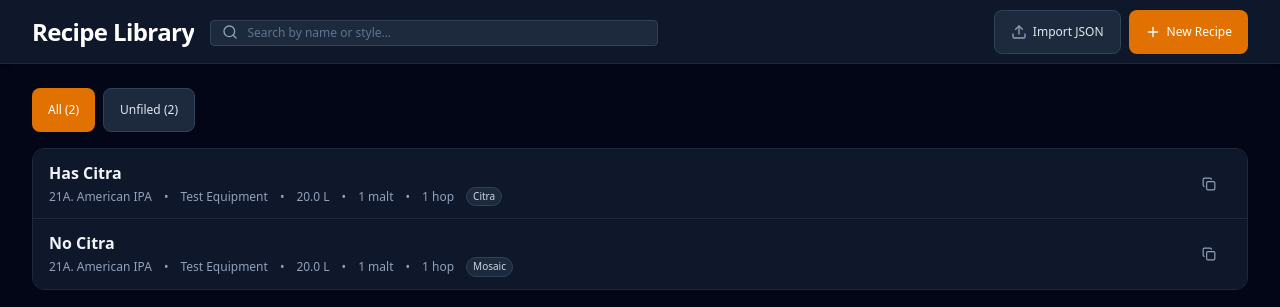
it: M38_P1 AC-13/AC-14: tag badges and tag filtering › clicking a tag badge filters the library to recipes with that tag, and shows a dismissible active filter chip
The width and height of the screenshot is (1280, 307).
Check: the button with test id "recipe-row-r-1" is shown, box [33,149,1247,219]
Click the button "Citra" at (484, 197), box [466,187,502,206]
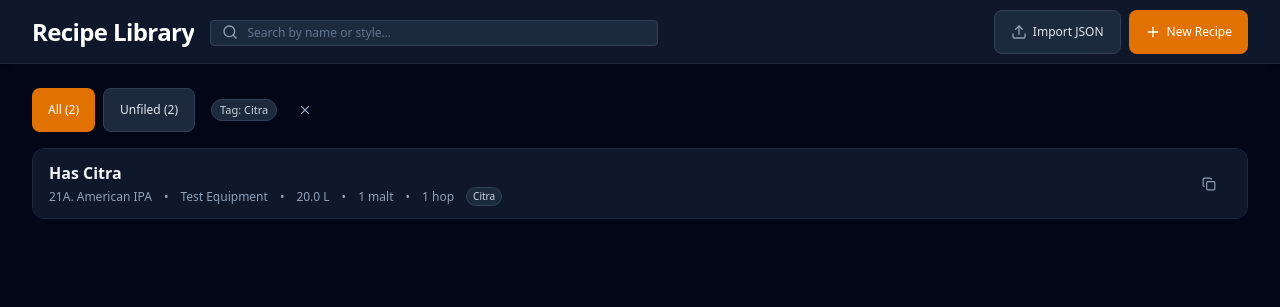
Check: the button with test id "recipe-row-r-1" is shown, box [33,149,1247,218]
Check: the button with test id "recipe-row-r-2" is gone
Check: the text with test id "active-tag-filter-badge" shows "Citra", box [244,102,268,117]
Click the button named "Clear tag filter \"Citra\"" at (305, 110), box [283,88,327,132]
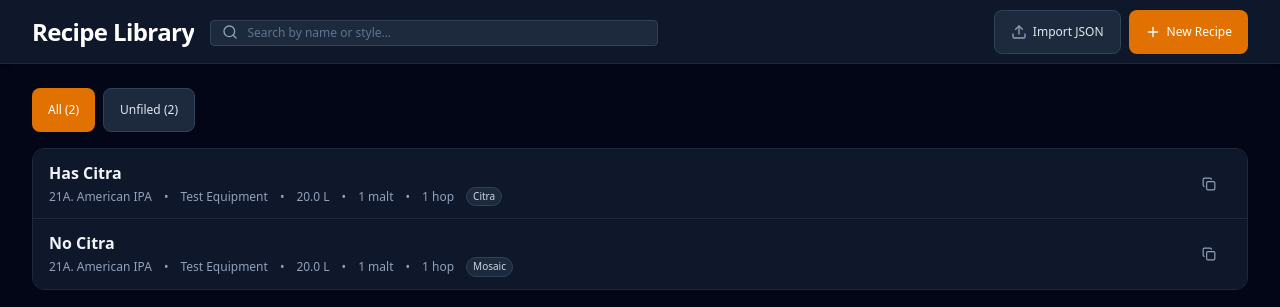
Check: the button with test id "recipe-row-r-2" is shown, box [33,219,1247,289]
Check: the text with test id "active-tag-filter-badge" is gone
